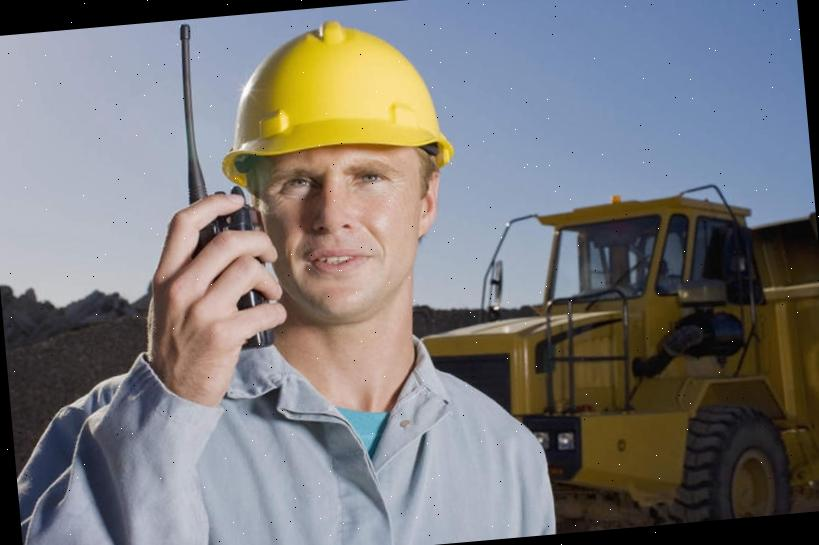helmet: (210, 8, 456, 186)
wear: (8, 335, 558, 545)
